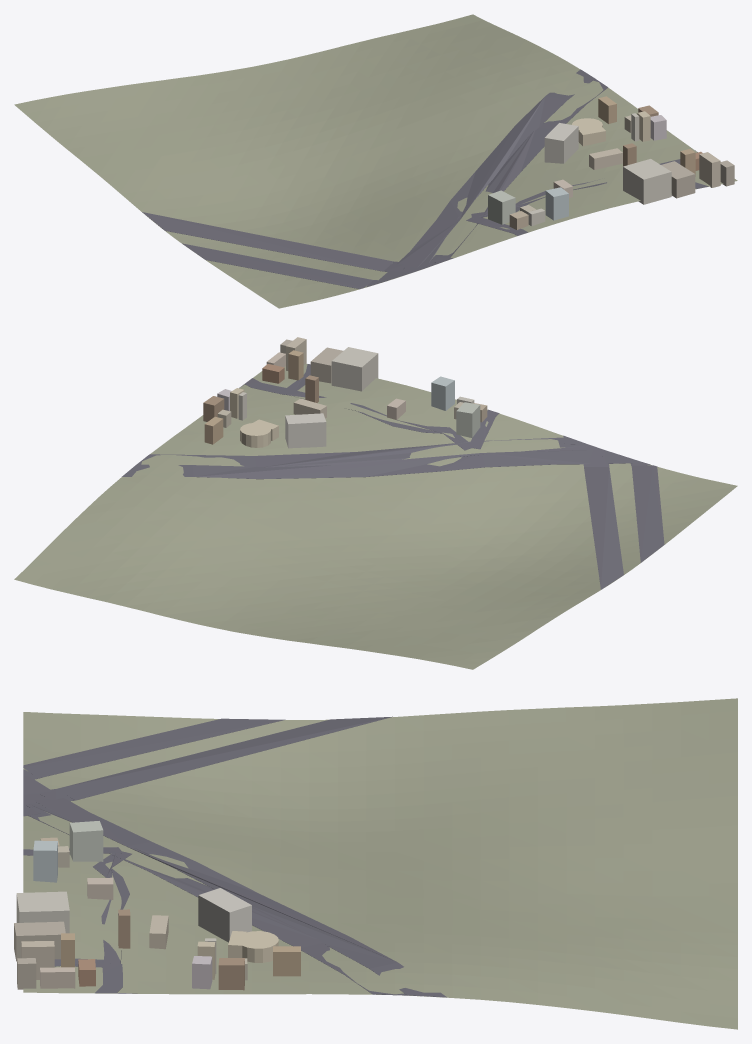
Rendered from chunk_9_1.glb.
3 renders of one model, top to bottom at view 1: azimuth 30°, elevation 25°; view 2: azimuth 150°, elevation 25°; view 3: azimuth 270°, elevation 25°, orthographic. The views are drawn at different scales.
Visible parts, largest first — view 1: geometry_23, geometry_26, geometry_27, geometry_29, geometry_28, geometry_1, geometry_2, geometry_3, geometry_9, geometry_0, geometry_13, geometry_6 (+1 smaller); view 2: geometry_23, geometry_26, geometry_28, geometry_27, geometry_29, geometry_1, geometry_2, geometry_35, geometry_0, geometry_9, geometry_13, geometry_3; view 3: geometry_23, geometry_26, geometry_27, geometry_29, geometry_28, geometry_2, geometry_1, geometry_9, geometry_0, geometry_3, geometry_35, geometry_13 (+9 smaller).
Boxes of the visible parts, x1,y1,x2,y2 form: geometry_23: (14, 14, 737, 308); geometry_26: (396, 69, 595, 267); geometry_27: (142, 212, 393, 271); geometry_29: (182, 243, 373, 289); geometry_28: (420, 79, 607, 266); geometry_1: (623, 159, 671, 204); geometry_2: (544, 123, 578, 163); geometry_3: (661, 161, 695, 198); geometry_9: (488, 190, 515, 224); geometry_0: (571, 118, 605, 146); geometry_13: (545, 187, 568, 220); geometry_6: (699, 152, 720, 187); geometry_23: (14, 363, 737, 669); geometry_26: (122, 450, 592, 479); geometry_28: (137, 437, 587, 467); geometry_27: (584, 467, 623, 589); geometry_29: (631, 465, 664, 562); geometry_1: (331, 347, 378, 391); geometry_2: (285, 413, 326, 448); geometry_35: (285, 389, 474, 450); geometry_0: (240, 419, 278, 447); geometry_9: (456, 402, 480, 437); geometry_13: (431, 376, 454, 410); geometry_3: (310, 347, 343, 383); geometry_23: (23, 698, 737, 1029); geometry_26: (34, 798, 446, 997); geometry_27: (57, 716, 392, 800); geometry_29: (23, 718, 285, 778); geometry_28: (23, 803, 407, 995); geometry_2: (198, 888, 251, 942); geometry_1: (16, 891, 69, 933); geometry_9: (69, 821, 103, 861); geometry_0: (228, 931, 278, 962); geometry_3: (14, 921, 65, 961); geometry_35: (93, 850, 131, 964); geometry_13: (33, 840, 57, 882).
Bounding box in the file's own units: 250 × 31.76 × 253.
